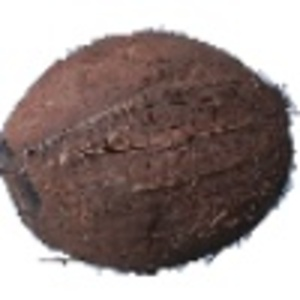coco: (1, 31, 300, 275)
